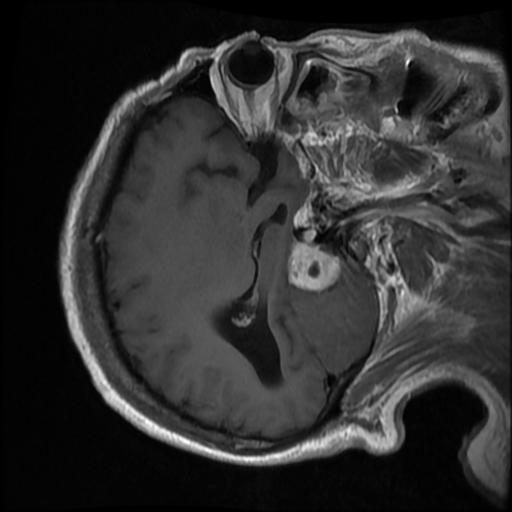meningioma: (284, 241, 339, 289)
